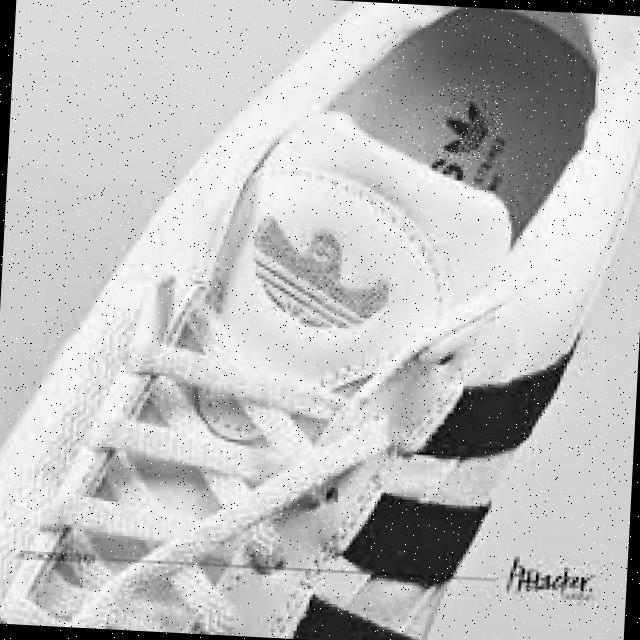Adidas: (238, 192, 411, 354), (436, 83, 506, 169)
